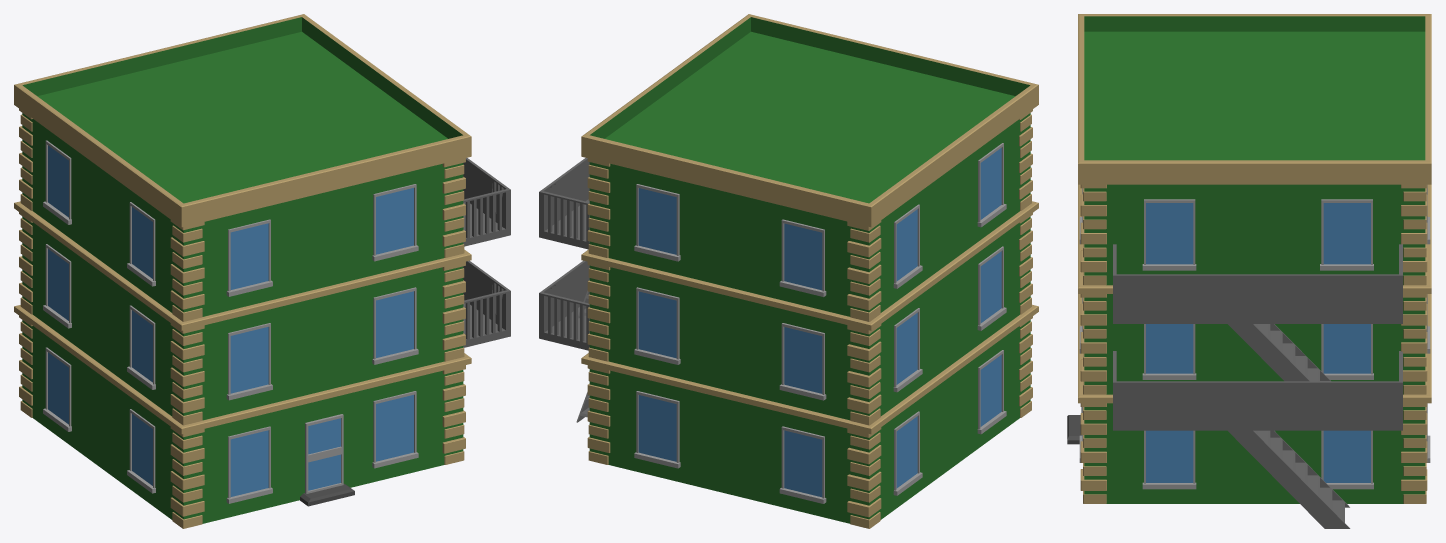
The model's file is GebouwGroenLaag.fbx.
3 renders of one model, left to right at view 1: azimuth 30°, elevation 25°; view 2: azimuth 150°, elevation 25°; view 3: azimuth 270°, elevation 25°, orthographic. The views are drawn at different scales.
Parts seen in each view (by area): view 1: gebouwGroenLaag; view 2: gebouwGroenLaag; view 3: gebouwGroenLaag.
Boxes of the visible parts, x1,y1,x2,y2 form: gebouwGroenLaag: (14, 14, 510, 528); gebouwGroenLaag: (539, 14, 1038, 528); gebouwGroenLaag: (1067, 14, 1431, 528).
Size of the model in its own units: 742 by 667 by 641.
